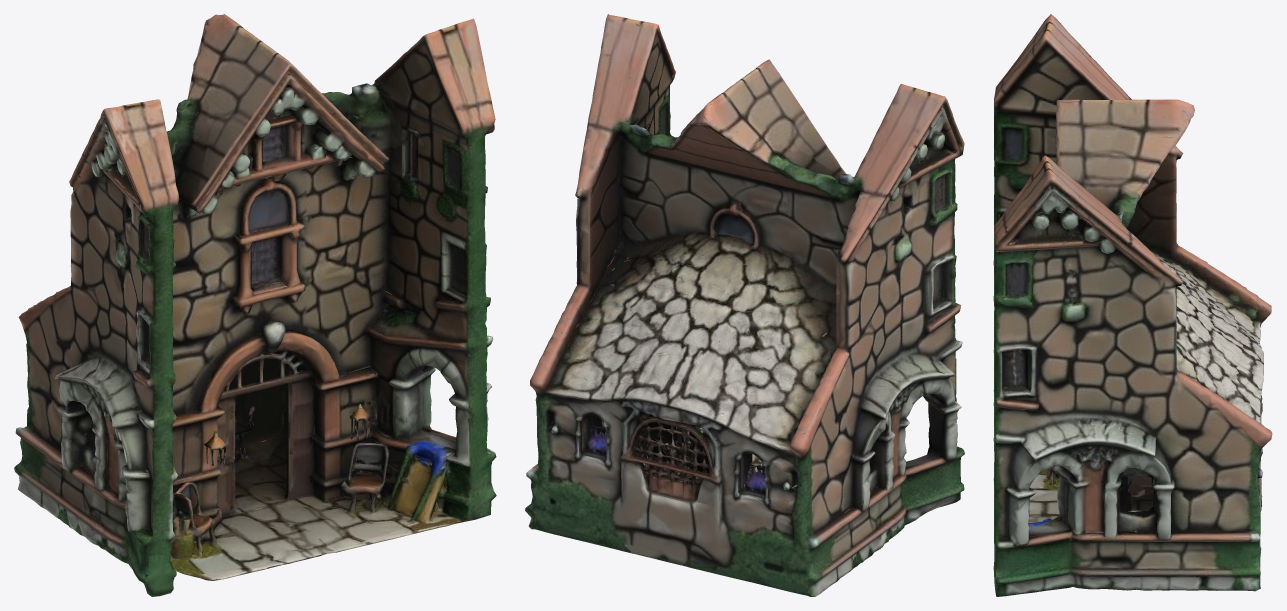
File: Dwarven Building #15_final.glb
The picture shows the model from 3 angles, left to right: view 1: azimuth 30°, elevation 25°; view 2: azimuth 150°, elevation 25°; view 3: azimuth 270°, elevation 25°; orthographic projection. The views are drawn at different scales.
Size of the model in its own units: 1.58 by 1.91 by 1.14.
1 material, 1 textured.
